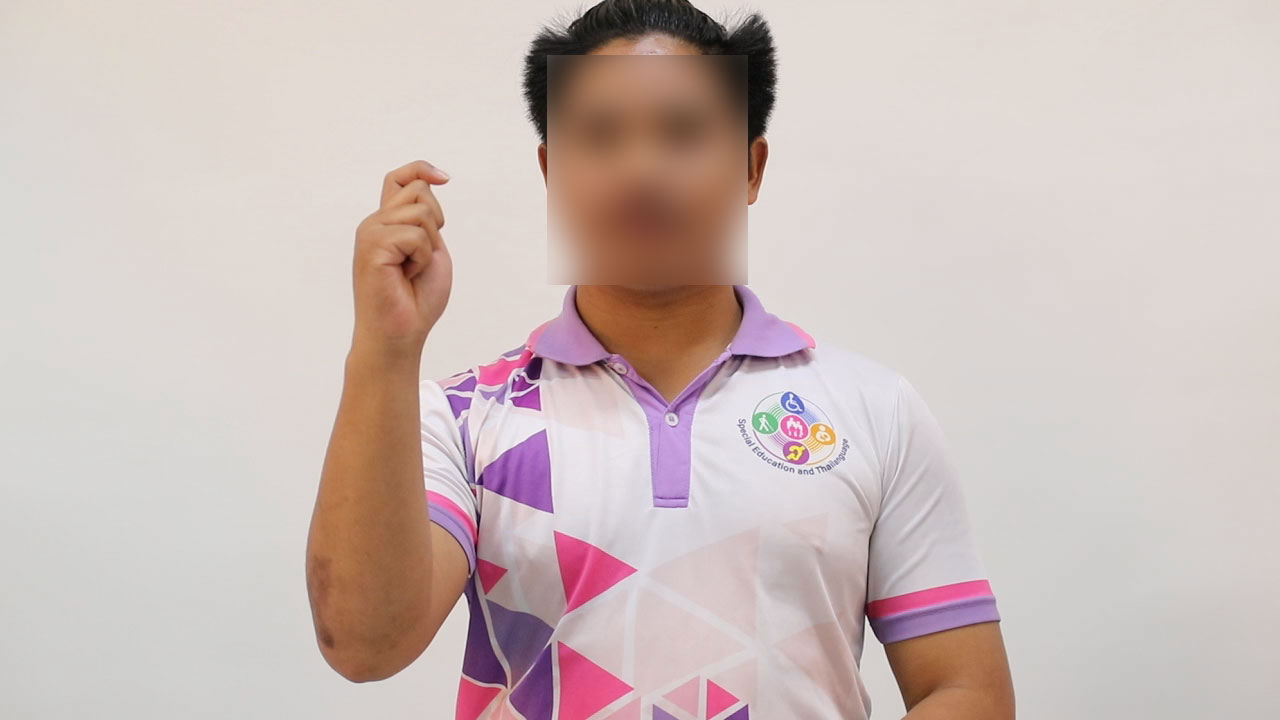or: (344, 159, 461, 369)
